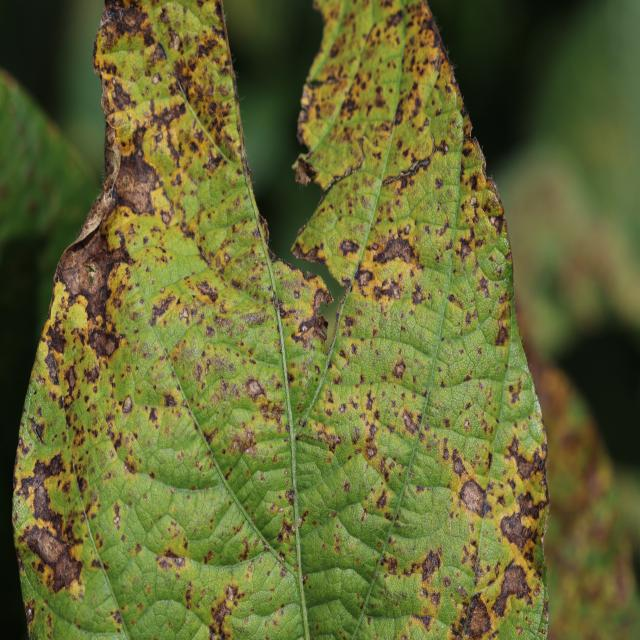Bacterial_Blight: (19, 520, 95, 595), (143, 97, 193, 162), (490, 563, 532, 621), (507, 441, 547, 486), (224, 419, 264, 460), (499, 508, 533, 555), (60, 259, 98, 301), (462, 594, 493, 640), (375, 235, 415, 265), (202, 351, 237, 384), (107, 76, 137, 112), (210, 594, 235, 635), (149, 291, 178, 326), (87, 327, 119, 358), (293, 239, 328, 267), (459, 478, 486, 514), (102, 118, 121, 167), (292, 153, 319, 187), (462, 135, 486, 169), (349, 135, 368, 175), (119, 6, 146, 34), (47, 322, 68, 357), (420, 548, 441, 581), (236, 310, 268, 330), (311, 285, 331, 317), (405, 153, 432, 175), (194, 280, 219, 303), (277, 515, 296, 545), (28, 417, 46, 444), (245, 376, 266, 398), (413, 613, 434, 633), (338, 238, 360, 257), (400, 411, 418, 434), (149, 43, 167, 65), (495, 321, 510, 347), (476, 274, 490, 299), (458, 238, 473, 261), (356, 268, 373, 288), (161, 547, 183, 562), (375, 489, 388, 511), (411, 286, 425, 306), (392, 360, 406, 380), (237, 541, 250, 562), (364, 442, 378, 461), (112, 502, 122, 528), (464, 309, 477, 328), (121, 395, 133, 415), (160, 208, 173, 225), (25, 604, 35, 625), (341, 275, 353, 288), (226, 585, 235, 602), (152, 72, 162, 85), (343, 481, 351, 493), (490, 215, 498, 227), (403, 223, 411, 235), (338, 403, 346, 414), (470, 195, 478, 206)
Soybean: (13, 2, 549, 637)
